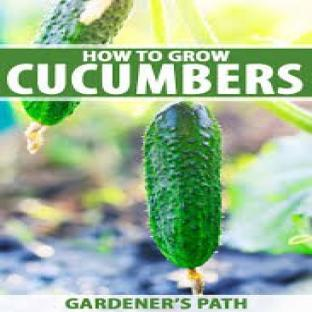Cucumber: (144, 103, 221, 273)
